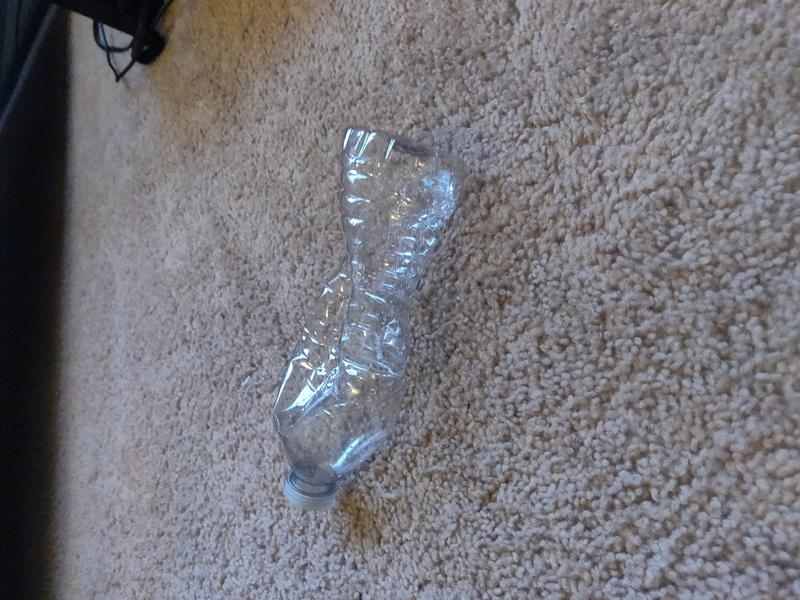bottle: (269, 122, 459, 515)
